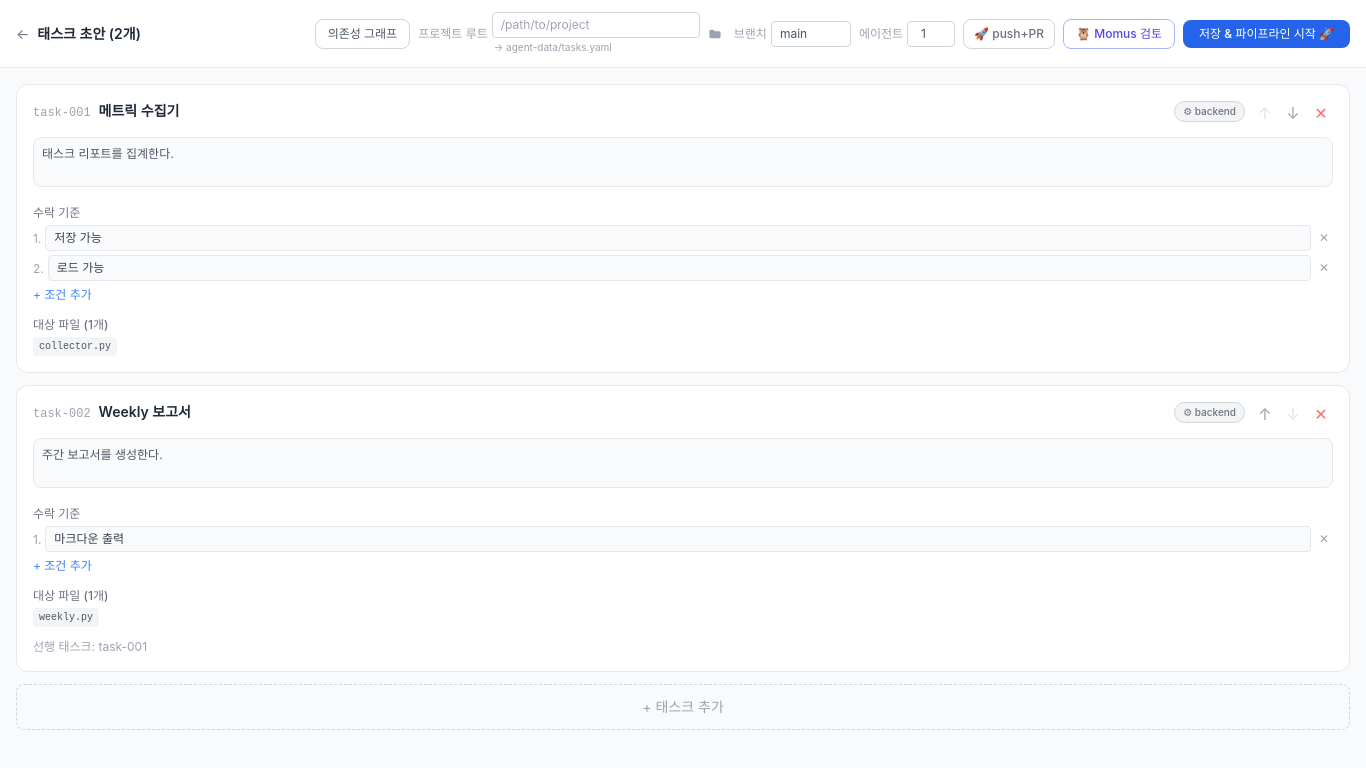
Test: TaskDraftPanel › APPROVED 응답 시 녹색 배너가 표시되어야 한다
Click the button "🦉 Momus 검토" at (1119, 34), box x1=1063 y1=18 x2=1175 y2=48
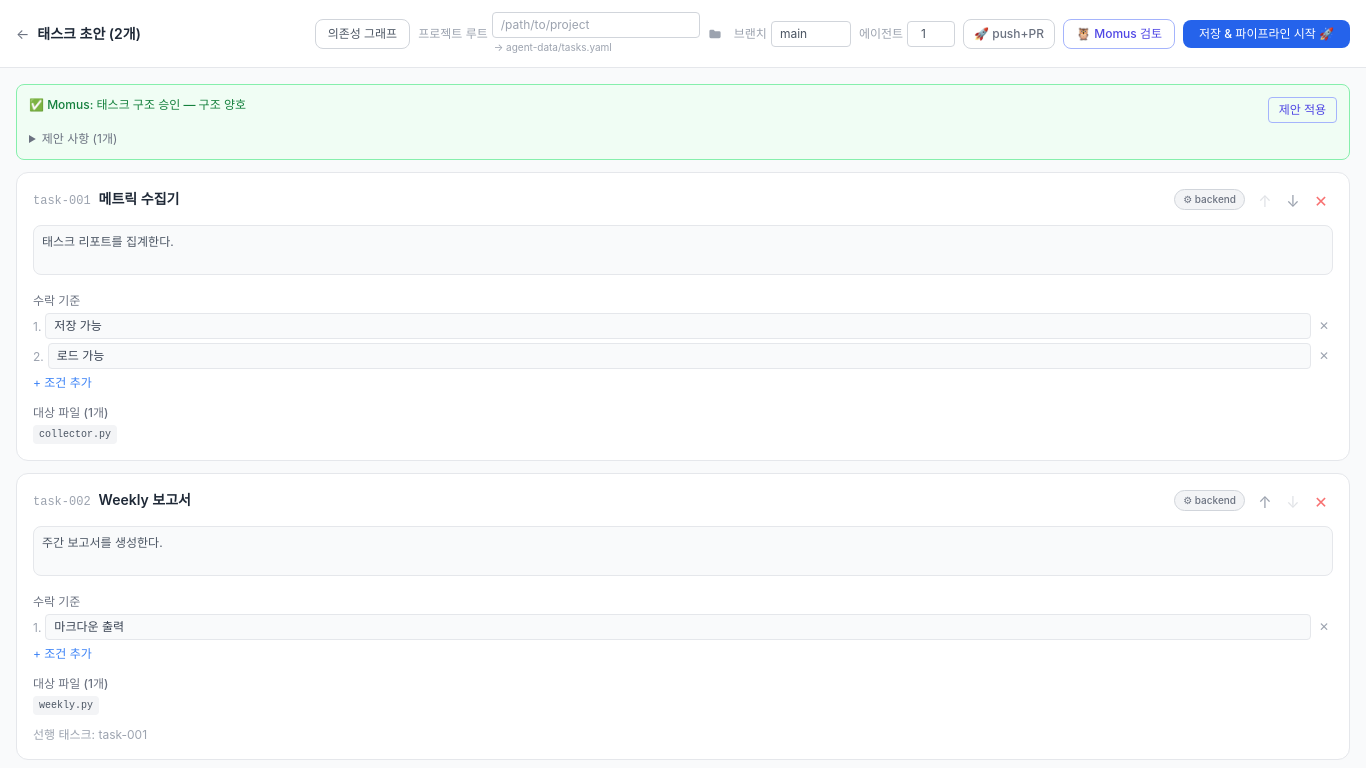
Check: the text "✅ Momus: 태스크 구조 승인 — 구조 양호" is shown, box x1=29 y1=97 x2=246 y2=112
